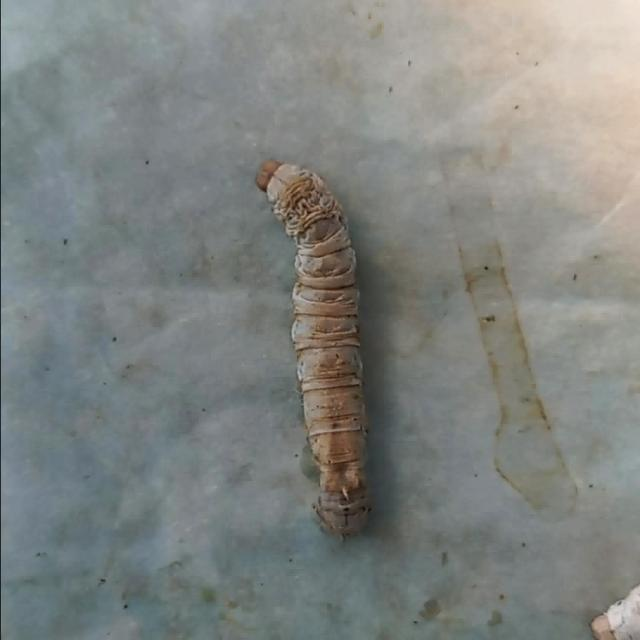Grasserie: (222, 126, 402, 563)
